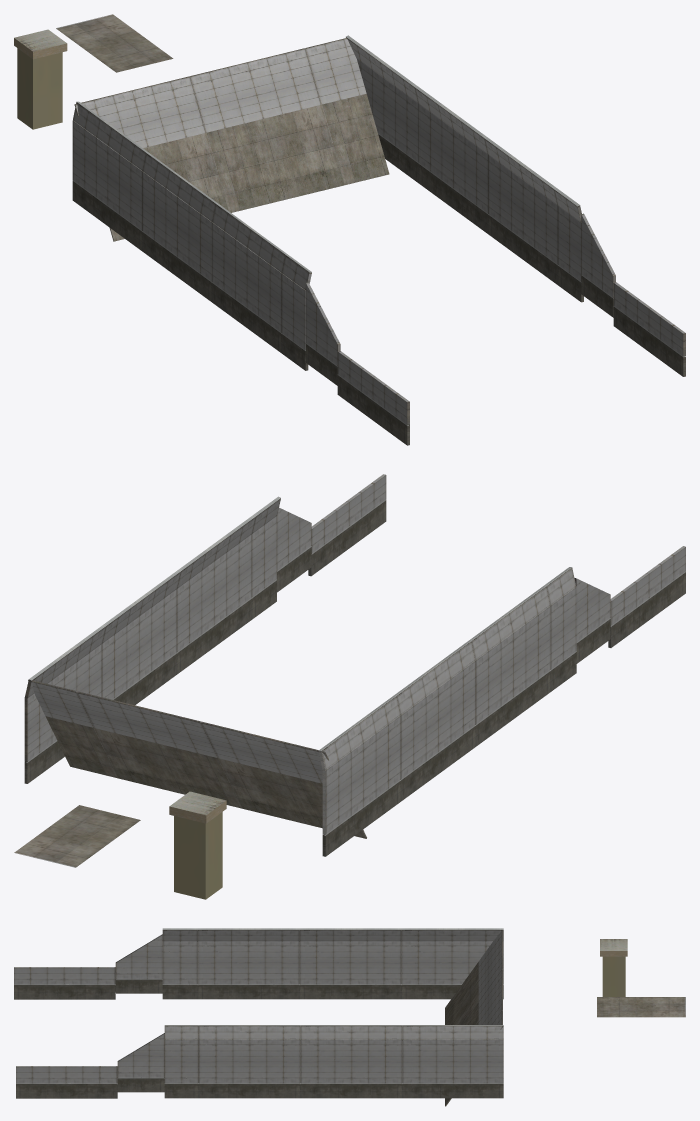
File: kado_03b.glb
The picture shows the model from 3 angles, top to bottom: view 1: azimuth 30°, elevation 25°; view 2: azimuth 150°, elevation 25°; view 3: azimuth 270°, elevation 25°; orthographic projection. The views are drawn at different scales.
Visible parts, largest first — view 1: 立方体.005, 立方体.006, 立方体.002, 立方体.007, 立方体.003, 平面, 立方体.011, 立方体.012, 立方体, 立方体.008, 立方体.009, 立方体.010; view 2: 立方体.006, 立方体.005, 立方体.002, 立方体.007, 立方体.003, 平面, 立方体.012, 立方体.011, 立方体, 立方体.009, 立方体.008, 立方体.010; view 3: 立方体.002, 立方体.006, 立方体.003, 立方体.007, 立方体.005, 立方体.011, 立方体.012, 立方体.008, 立方体.009, 平面, 立方体, 立方体.010.
Boxes of the visible parts, bbox=[...] form: 立方体.005: bbox=[74, 38, 389, 241]; 立方体.006: bbox=[72, 120, 308, 370]; 立方体.002: bbox=[357, 59, 583, 302]; 立方体.007: bbox=[73, 101, 311, 290]; 立方体.003: bbox=[346, 35, 581, 222]; 平面: bbox=[56, 14, 173, 72]; 立方体.011: bbox=[337, 351, 409, 445]; 立方体.012: bbox=[613, 282, 685, 376]; 立方体: bbox=[17, 48, 62, 129]; 立方体.008: bbox=[581, 213, 615, 317]; 立方体.009: bbox=[306, 282, 340, 385]; 立方体.010: bbox=[14, 29, 67, 59]; 立方体.006: bbox=[322, 587, 576, 856]; 立方体.005: bbox=[28, 680, 366, 838]; 立方体.002: bbox=[24, 516, 276, 783]; 立方体.007: bbox=[318, 567, 576, 770]; 立方体.003: bbox=[25, 496, 280, 698]; 平面: bbox=[14, 805, 140, 867]; 立方体.012: bbox=[308, 474, 386, 576]; 立方体.011: bbox=[608, 546, 685, 647]; 立方体: bbox=[174, 812, 222, 899]; 立方体.009: bbox=[574, 578, 610, 663]; 立方体.008: bbox=[277, 507, 311, 592]; 立方体.010: bbox=[169, 791, 226, 823]; 立方体.002: bbox=[164, 1039, 503, 1098]; 立方体.006: bbox=[162, 941, 503, 999]; 立方体.003: bbox=[164, 1025, 503, 1039]; 立方体.007: bbox=[162, 928, 503, 941]; 立方体.005: bbox=[445, 930, 502, 1106]; 立方体.011: bbox=[14, 967, 115, 999]; 立方体.012: bbox=[16, 1066, 117, 1098]; 立方体.008: bbox=[117, 1033, 164, 1092]; 立方体.009: bbox=[115, 934, 162, 993]; 平面: bbox=[597, 997, 685, 1017]; 立方体: bbox=[602, 956, 625, 996]; 立方体.010: bbox=[600, 939, 627, 956].
Bounding box in the file's own units: 21.2 × 8 × 60.26.
Materials: 2 (2 with a texture image).
